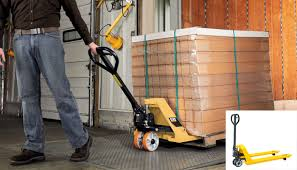Pallet Jack: (87, 45, 225, 156), (230, 113, 294, 169)
